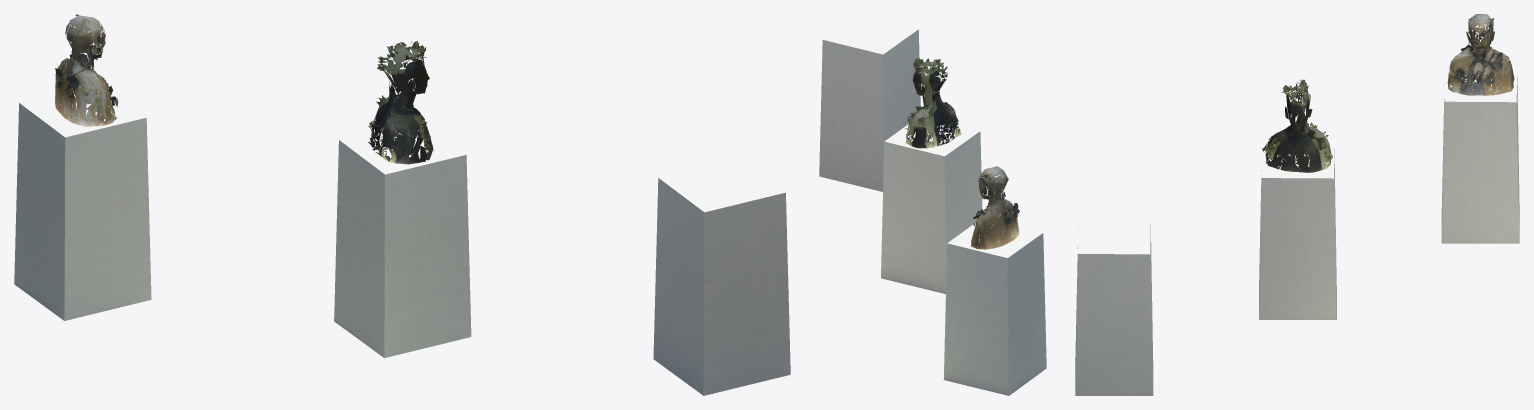
The model's file is StatueFix_LOD4.glb.
3 views of the same model, side by side, from view 1: azimuth 30°, elevation 25°; view 2: azimuth 150°, elevation 25°; view 3: azimuth 270°, elevation 25° (orthographic). The views are drawn at different scales.
Visible parts, largest first — view 1: Statue Place.001_LOD4; view 2: Statue Place.001_LOD4; view 3: Statue Place.001_LOD4.
Boxes of the visible parts, bbox=[...] form: Statue Place.001_LOD4: bbox=[14, 14, 790, 395]; Statue Place.001_LOD4: bbox=[819, 14, 1046, 395]; Statue Place.001_LOD4: bbox=[1075, 14, 1519, 395].
Size of the model in its own units: 3.38 by 1.87 by 3.42.
2 materials, 2 textured.
